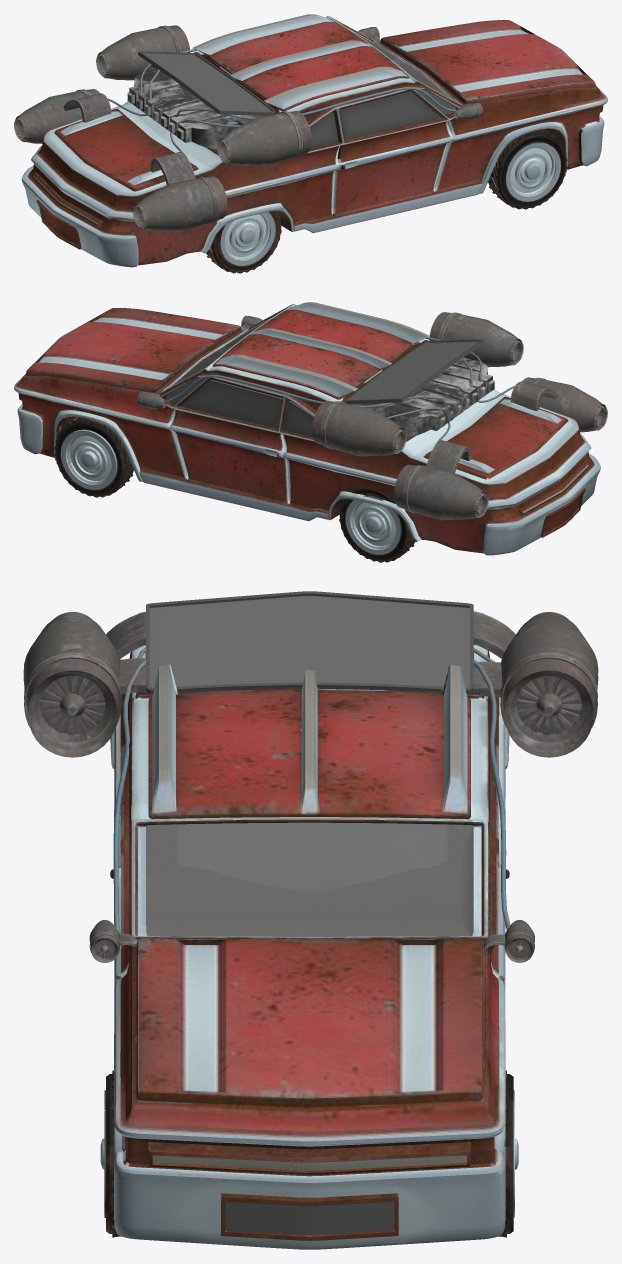
The picture shows the model from 3 angles, top to bottom: view 1: azimuth 30°, elevation 25°; view 2: azimuth 150°, elevation 25°; view 3: azimuth 270°, elevation 25°; orthographic projection. The views are drawn at different scales.
Visible parts, largest first — view 1: Cube, Cylinder.003, Cube.006, Cylinder.008, Cube.009, NurbsPath.002; view 2: Cube, Cylinder.003, Cube.006, Cylinder.008, Cube.009, NurbsPath.002; view 3: Cube, Cube.006, Cylinder.003, Cylinder.008, NurbsPath.002.
Boxes of the visible parts, x1,y1,x2,y2 form: Cube: (21,14,607,267); Cylinder.003: (14,25,483,231); Cube.006: (138,32,456,147); Cylinder.008: (206,129,567,273); Cube.009: (127,70,254,148); NurbsPath.002: (107,49,456,151); Cube: (14,302,600,555); Cylinder.003: (137,312,607,520); Cube.006: (166,320,484,436); Cylinder.008: (54,417,416,562); Cube.009: (349,358,494,436); NurbsPath.002: (165,337,514,441); Cube: (110,645,509,1249); Cube.006: (131,591,488,936); Cylinder.003: (23,611,598,962); Cylinder.008: (100,816,518,1237); NurbsPath.002: (113,647,510,938).
Size of the model in its own units: 5 by 1.56 by 2.39.
5 materials, 5 textured.
